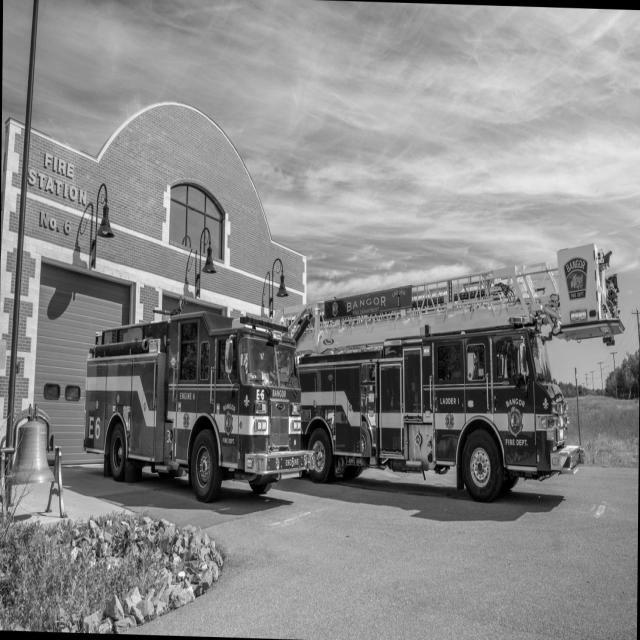Fire Truck: (271, 244, 626, 503), (84, 299, 304, 504)
